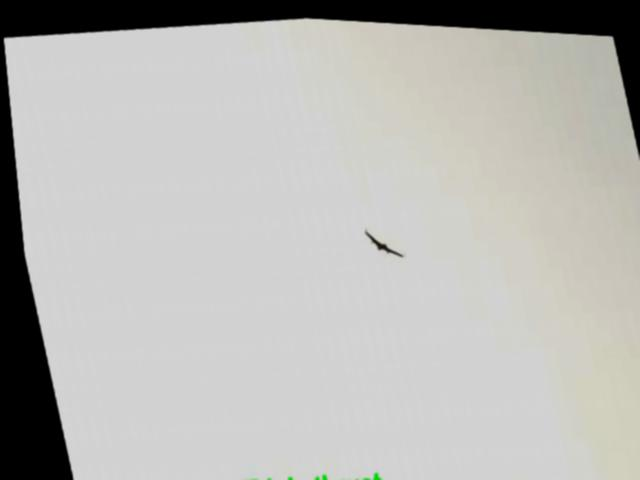plane: (360, 223, 399, 255)
